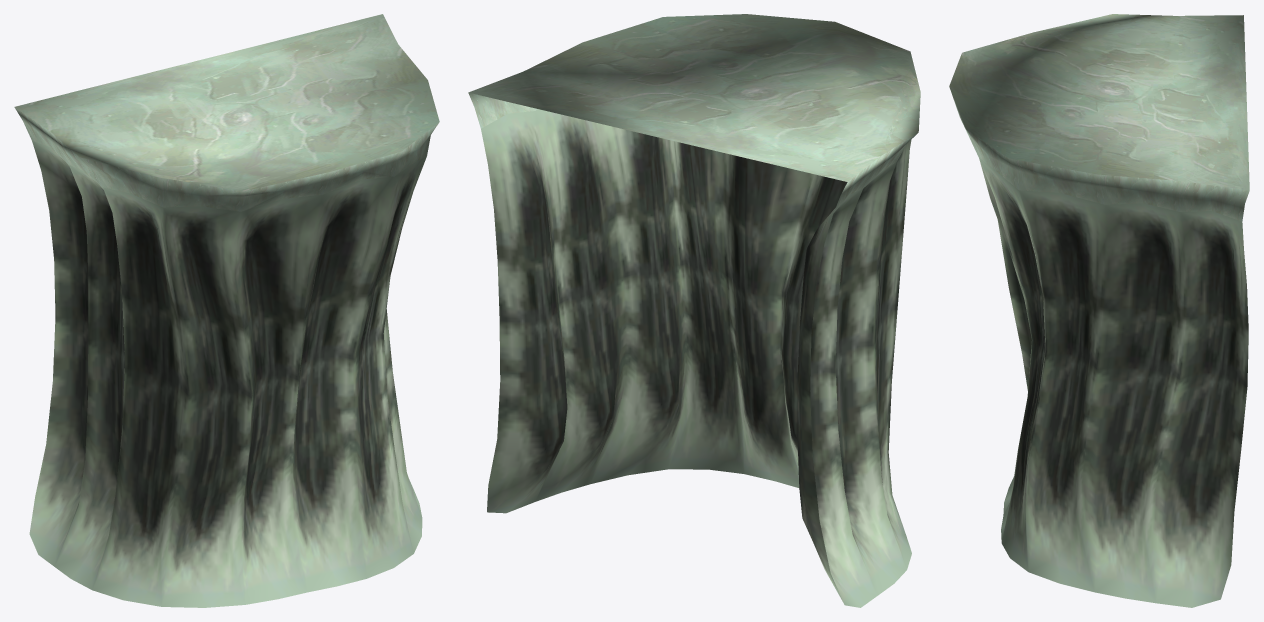
Rendered from TROLLHOLE02_MAINCAVEPLATFORM07.fbx.
3 renders of one model, left to right at view 1: azimuth 30°, elevation 25°; view 2: azimuth 150°, elevation 25°; view 3: azimuth 270°, elevation 25°, orthographic. The views are drawn at different scales.
Parts seen in each view (by area): view 1: TROLLHOLE02_MAINCAVEPLATFORM07; view 2: TROLLHOLE02_MAINCAVEPLATFORM07; view 3: TROLLHOLE02_MAINCAVEPLATFORM07.
Boxes of the visible parts, x1,y1,x2,y2 form: TROLLHOLE02_MAINCAVEPLATFORM07: [14, 14, 439, 607]; TROLLHOLE02_MAINCAVEPLATFORM07: [468, 14, 920, 607]; TROLLHOLE02_MAINCAVEPLATFORM07: [949, 14, 1249, 607].
Bounding box in the file's own units: 39018 × 44070 × 28079.
Materials: 2 (2 with a texture image).
